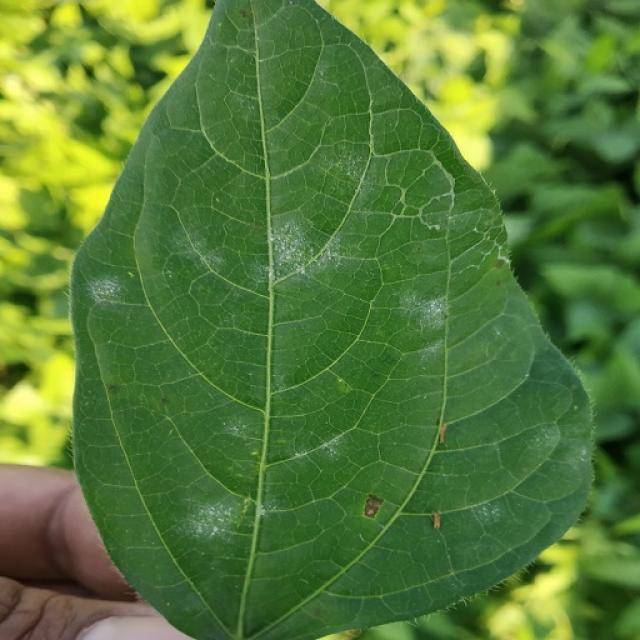Blackgram: (71, 0, 590, 639)
Powdery_Mildew: (224, 463, 265, 617), (268, 220, 352, 292), (192, 407, 254, 461), (191, 496, 243, 539), (397, 286, 444, 328), (326, 148, 366, 187), (523, 423, 561, 461), (90, 278, 121, 301), (66, 280, 78, 338), (262, 450, 292, 470), (320, 437, 344, 460), (476, 502, 500, 522), (493, 245, 512, 270), (442, 599, 465, 614), (334, 378, 354, 395), (292, 446, 312, 461), (267, 263, 275, 284), (579, 449, 589, 465), (107, 384, 121, 394), (274, 437, 289, 445), (257, 504, 266, 516), (490, 188, 499, 200), (429, 222, 440, 231), (359, 533, 368, 544), (267, 232, 274, 246), (270, 287, 278, 297), (337, 377, 345, 385), (572, 405, 579, 412), (127, 272, 134, 278), (215, 197, 221, 204), (168, 429, 174, 436), (218, 22, 224, 29), (166, 601, 171, 607)
